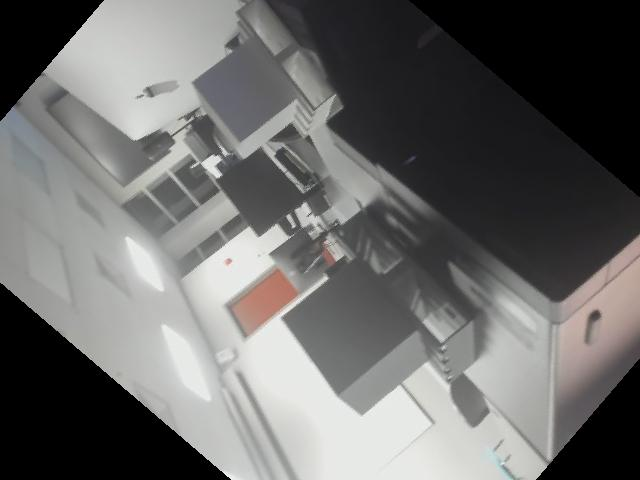grey pallet: (250, 197, 502, 420)
white pallet: (171, 5, 368, 163)
